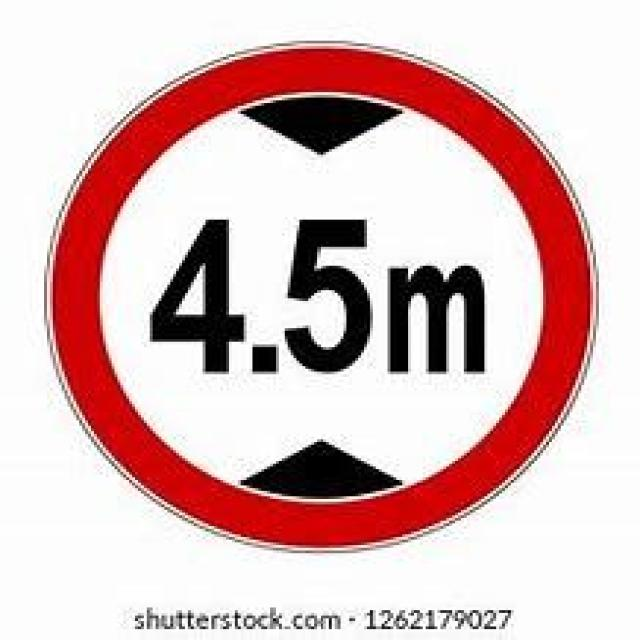HEIGHT_LIMIT: (44, 45, 599, 552)
